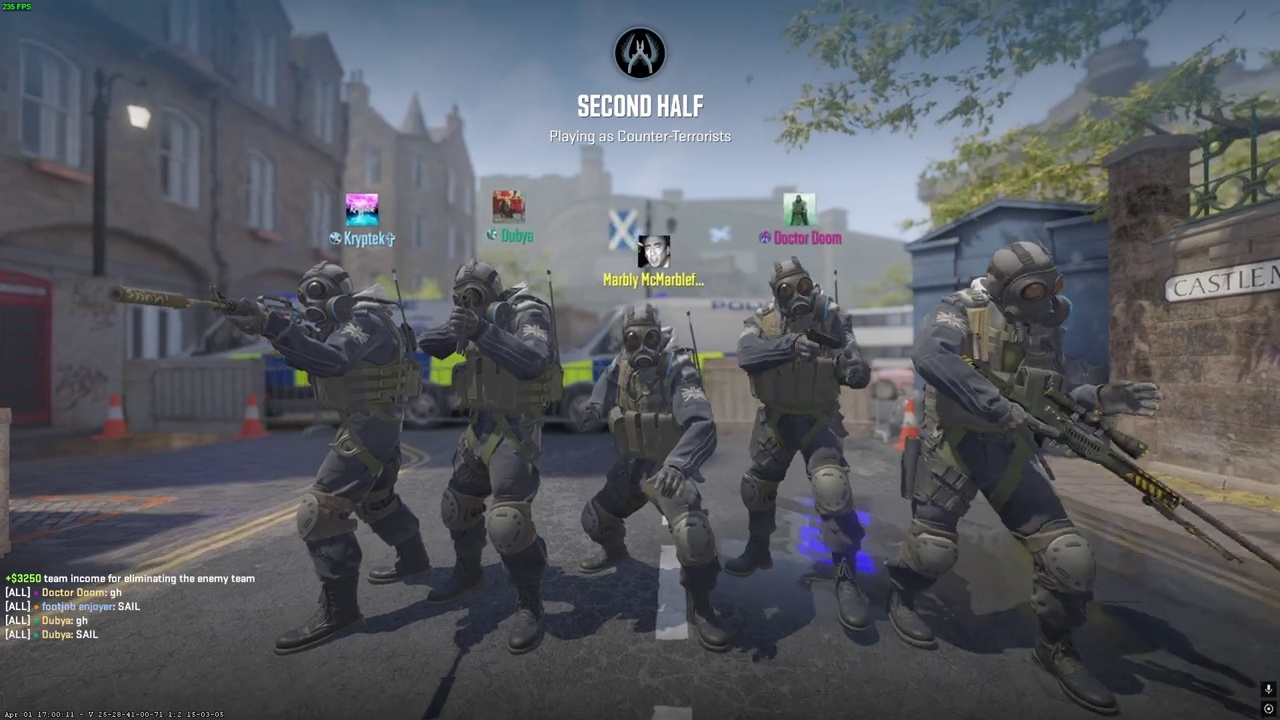CT: (894, 240, 1116, 713), (266, 260, 430, 651), (720, 255, 875, 632), (421, 258, 564, 656), (577, 304, 726, 653)
